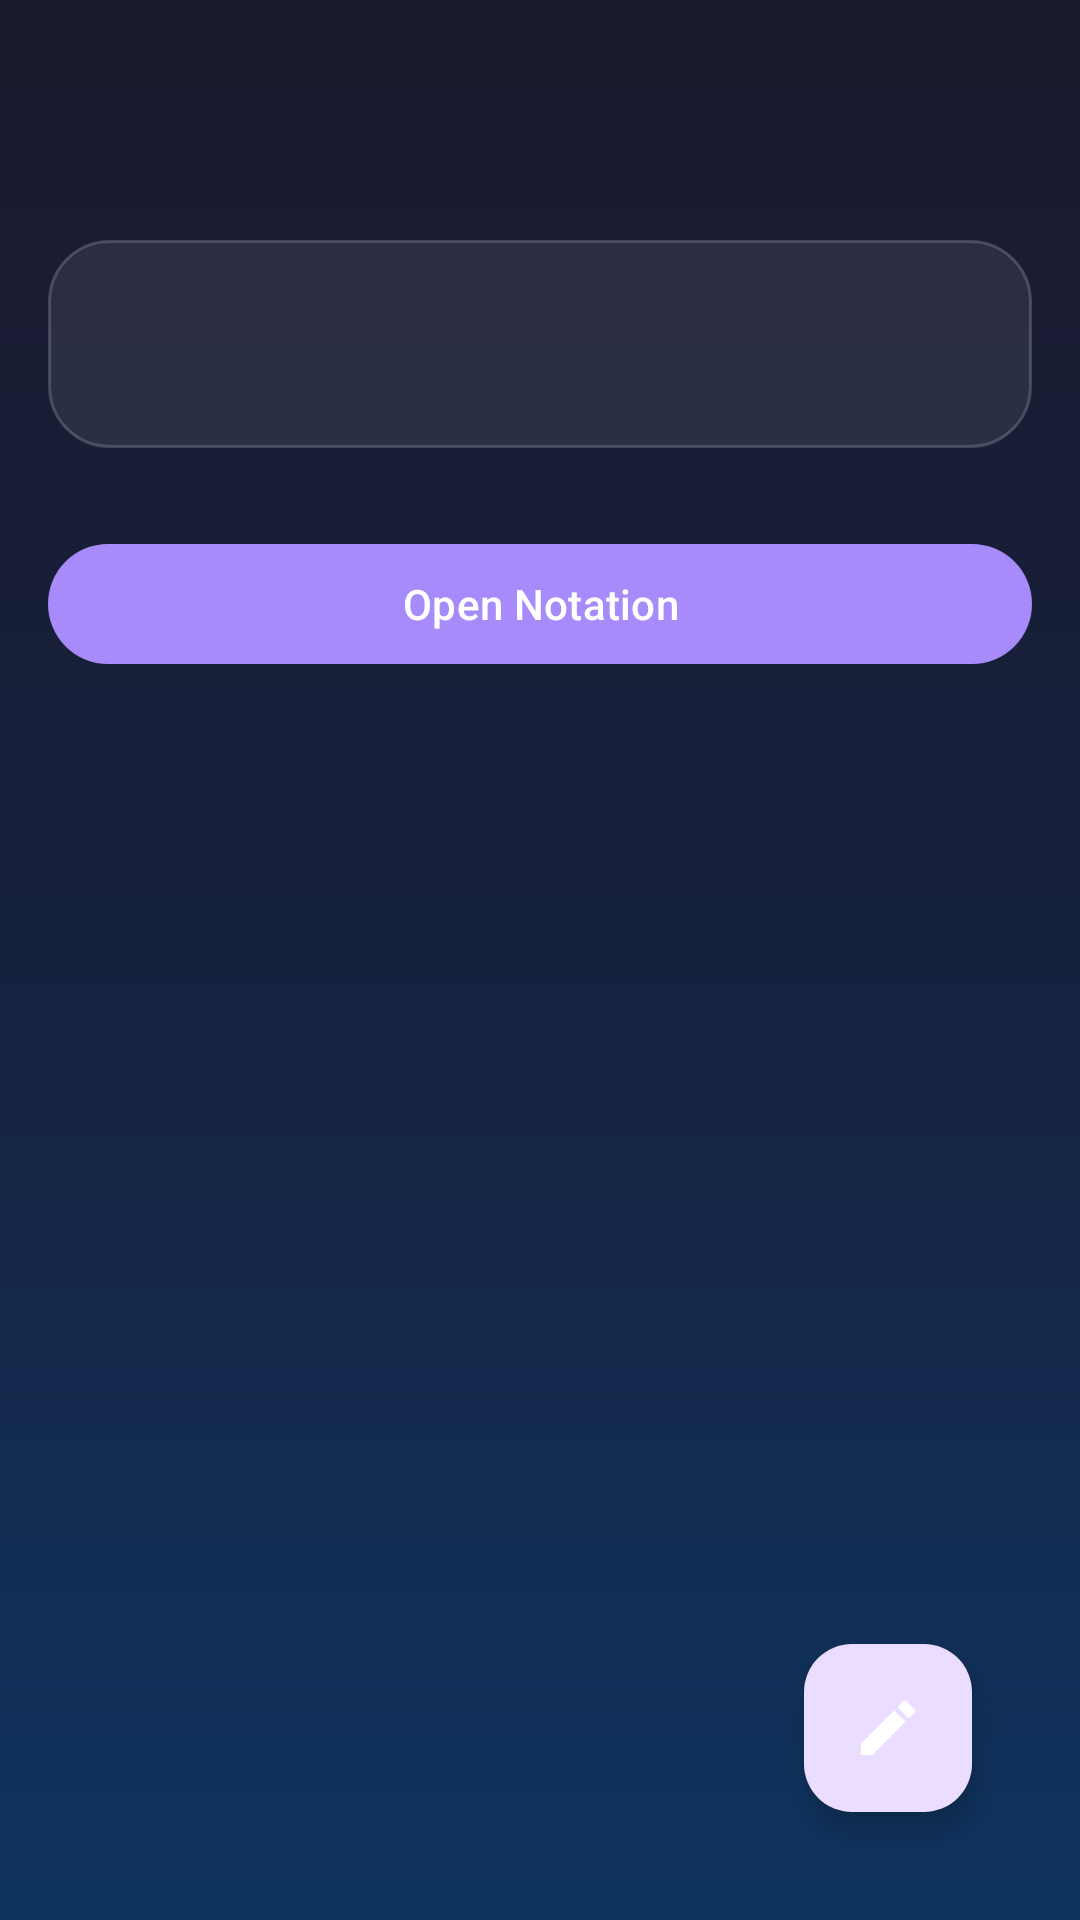

Icon bounding boxes for this 1080*1920 phone screenshot, format rect(x1, y1, x2, y2):
Edit Song: rect(804, 1644, 972, 1812)
